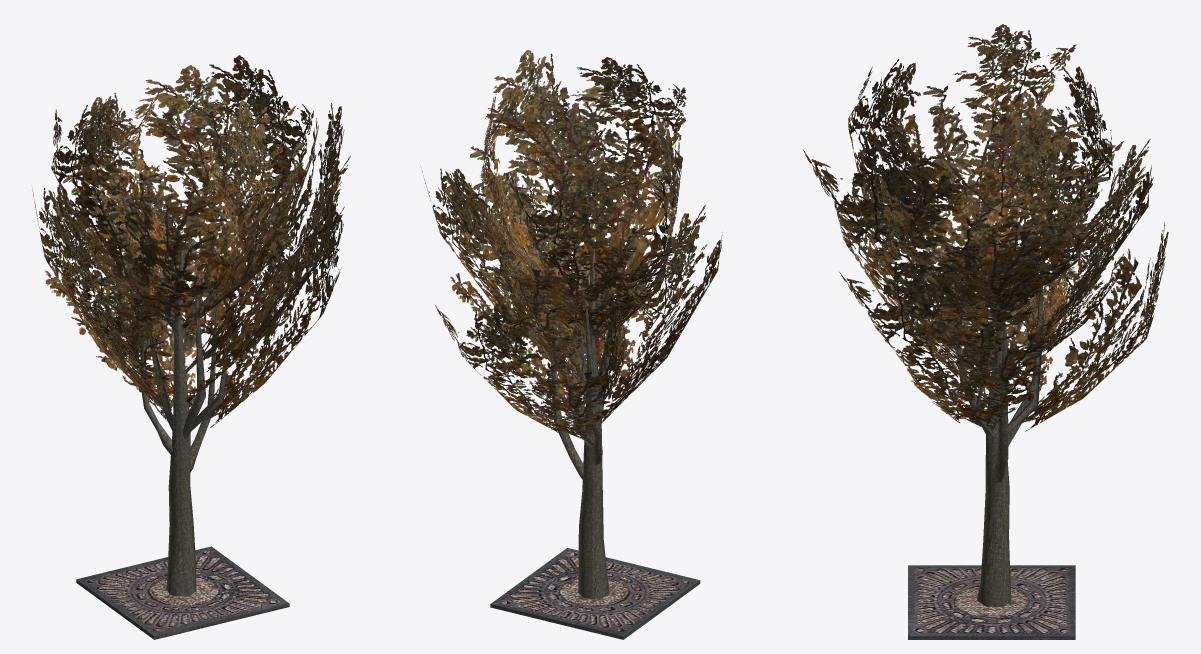
The model's file is tree_decid_small3_base_leaf.fbx.
The picture shows the model from 3 angles, left to right: view 1: azimuth 30°, elevation 25°; view 2: azimuth 150°, elevation 25°; view 3: azimuth 270°, elevation 25°; orthographic projection. The views are drawn at different scales.
Visible parts, largest first — view 1: mesh_0, mesh_2, mesh_1; view 2: mesh_0, mesh_2, mesh_1; view 3: mesh_0, mesh_2, mesh_1.
Boxes of the visible parts, left/top/right/bottom form: mesh_0: left=31, top=55, right=350, bottom=427; mesh_2: left=76, top=546, right=289, bottom=639; mesh_1: left=140, top=241, right=229, bottom=596; mesh_0: left=420, top=50, right=722, bottom=441; mesh_2: left=490, top=548, right=700, bottom=639; mesh_1: left=545, top=249, right=623, bottom=599; mesh_0: left=802, top=24, right=1168, bottom=434; mesh_2: left=908, top=565, right=1075, bottom=639; mesh_1: left=950, top=233, right=1043, bottom=606.
Size of the model in its own units: 495 by 742 by 497.
3 materials, 3 textured.
